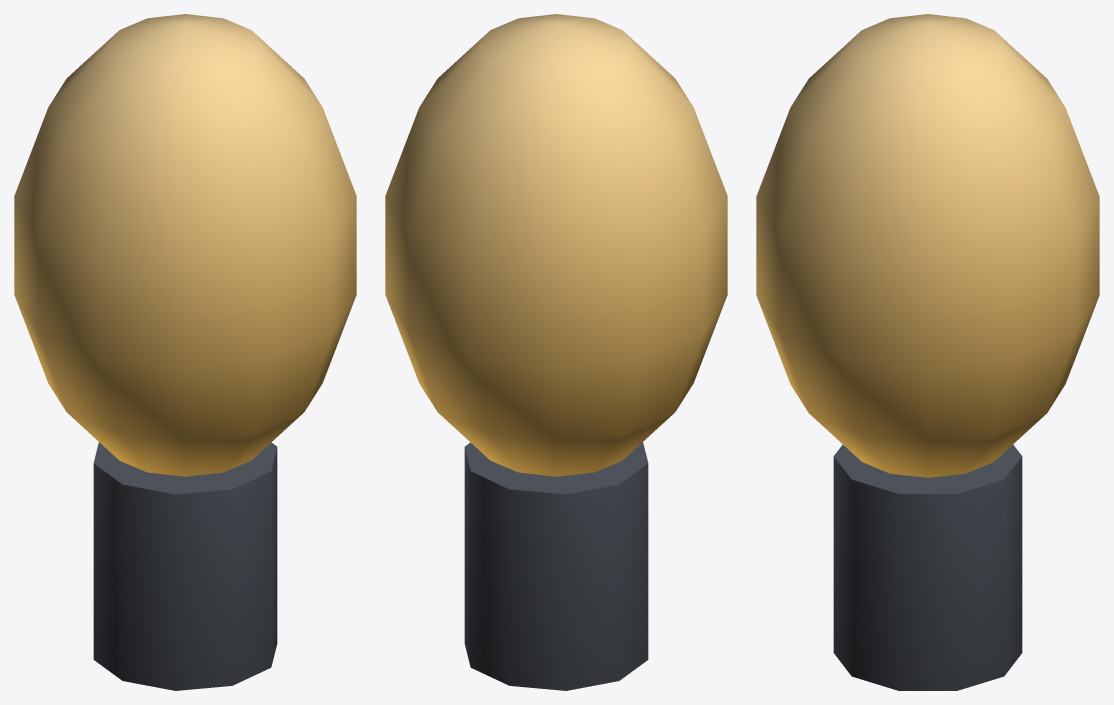
File: dt_fairy_light_bulb.fbx
The picture shows the model from 3 angles, left to right: view 1: azimuth 30°, elevation 25°; view 2: azimuth 150°, elevation 25°; view 3: azimuth 270°, elevation 25°; orthographic projection.
Parts seen in each view (by area): view 1: dt_fairy_light_bulb; view 2: dt_fairy_light_bulb; view 3: dt_fairy_light_bulb.
Boxes of the visible parts, box(x1,y1,x2,y2) form: dt_fairy_light_bulb: box(14, 14, 356, 690); dt_fairy_light_bulb: box(385, 14, 727, 690); dt_fairy_light_bulb: box(756, 14, 1099, 690).
Bounding box in the file's own units: 24.74 × 50 × 24.74.
